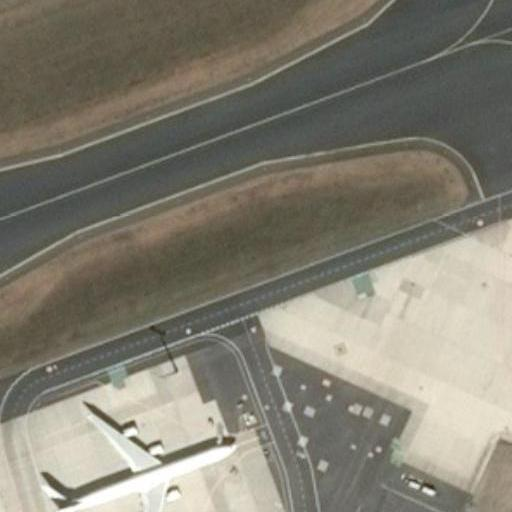Aircraft: (29, 397, 246, 512)
